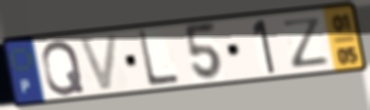1: (251, 17, 278, 75)
5: (182, 21, 225, 84)
L: (135, 28, 181, 89)
Q: (40, 38, 87, 98)
V: (75, 31, 121, 94)
Z: (279, 15, 332, 70)
